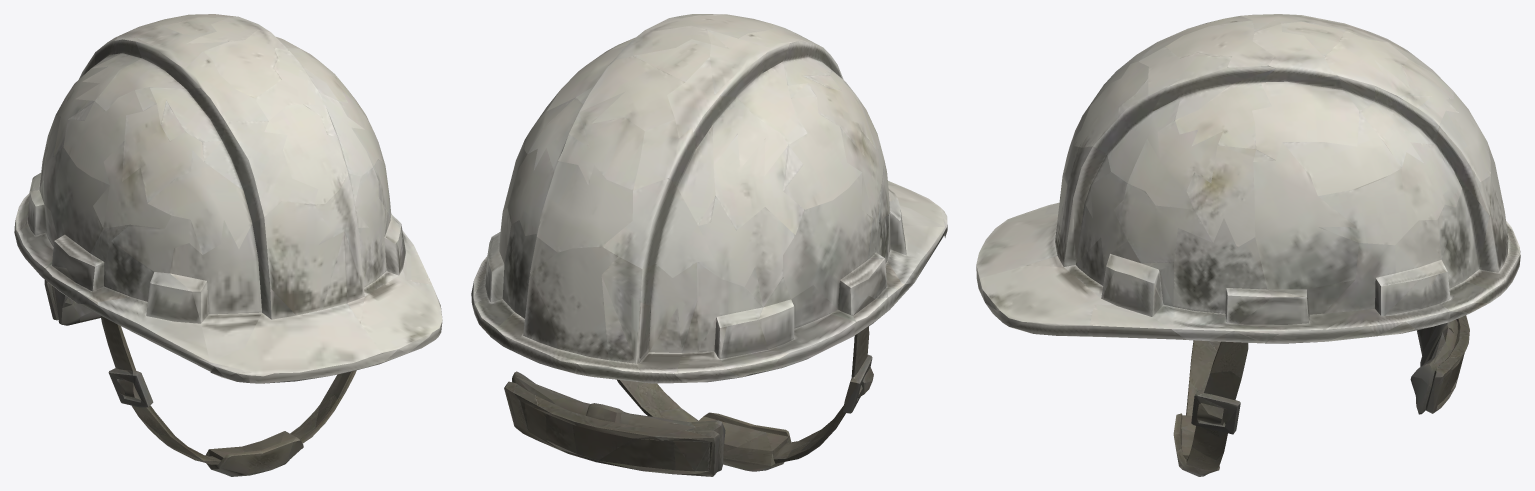
File: hard_hat.glb
3 renders of one model, left to right at view 1: azimuth 30°, elevation 25°; view 2: azimuth 150°, elevation 25°; view 3: azimuth 270°, elevation 25°, orthographic. The views are drawn at different scales.
Bounding box in the file's own units: 1.36 × 1.68 × 1.9.
Materials: 1 (1 with a texture image).
